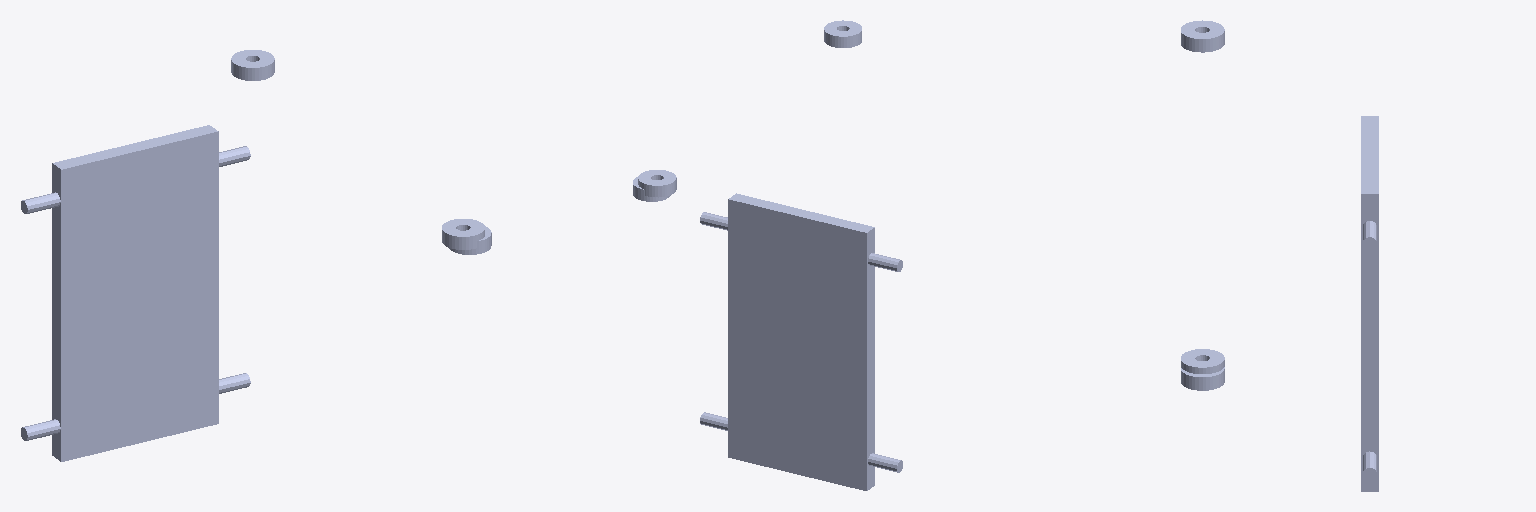
The robot description file, URDF, robot "ROS_TEST_ASSEMBLY":
<?xml version="1.0" encoding="utf-8"?>
<!-- This URDF was automatically created by SolidWorks to URDF Exporter! Originally created by [author] ([email redacted]) 
     Commit Version: 1.6.0-1-g15f4949  Build Version: 1.6.7594.29634
     For more information, please see http://wiki.ros.org/sw_urdf_exporter -->
<robot
  name="ROS_TEST_ASSEMBLY">
  <link
    name="base_link">
    <inertial>
      <origin
        xyz="-0.25 0.0249831852972346 -0.445"
        rpy="0 0 0" />
      <mass
        value="22.7777875658031" />
      <inertia
        ixx="1.53624657736055"
        ixy="5.64542627119473E-19"
        ixz="6.43745039913268E-17"
        iyy="2.04388054287898"
        iyz="7.25911804919028E-18"
        izz="0.517010899353609" />
    </inertial>
    <visual>
      <origin
        xyz="0 0 0"
        rpy="0 0 0" />
      <geometry>
        <mesh
          filename="package://ROS_TEST_ASSEMBLY/meshes/base_link.STL" />
      </geometry>
      <material
        name="">
        <color
          rgba="0.792156862745098 0.819607843137255 0.933333333333333 1" />
      </material>
    </visual>
    <collision>
      <origin
        xyz="0 0 0"
        rpy="0 0 0" />
      <geometry>
        <mesh
          filename="package://ROS_TEST_ASSEMBLY/meshes/base_link.STL" />
      </geometry>
    </collision>
  </link>
  <link
    name="FR_wheel">
    <inertial>
      <origin
        xyz="-5.55111512312578E-17 0 0"
        rpy="0 0 0" />
      <mass
        value="0.402123859659494" />
      <inertia
        ixx="0.00045574037428076"
        ixy="-7.67877008722872E-38"
        ixz="0"
        iyy="0.00045574037428076"
        iyz="-1.16563729924132E-36"
        izz="0.000804247719318988" />
    </inertial>
    <visual>
      <origin
        xyz="0 0 0"
        rpy="0 0 0" />
      <geometry>
        <mesh
          filename="package://ROS_TEST_ASSEMBLY/meshes/FR_wheel.STL" />
      </geometry>
      <material
        name="">
        <color
          rgba="0.792156862745098 0.819607843137255 0.933333333333333 1" />
      </material>
    </visual>
    <collision>
      <origin
        xyz="0 0 0"
        rpy="0 0 0" />
      <geometry>
        <mesh
          filename="package://ROS_TEST_ASSEMBLY/meshes/FR_wheel.STL" />
      </geometry>
    </collision>
  </link>
  <joint
    name="FR_wheel_contd"
    type="continuous">
    <origin
      xyz="-0.585 0.024274 -0.1"
      rpy="3.1416 -1.5708 0" />
    <parent
      link="base_link" />
    <child
      link="FR_wheel" />
    <axis
      xyz="0 0 1" />
    <limit
      upper="1000"
      effort="0"
      velocity="0" />
  </joint>
  <link
    name="FL_wheel">
    <inertial>
      <origin
        xyz="0 0 0"
        rpy="0 0 0" />
      <mass
        value="0.402123859659493" />
      <inertia
        ixx="0.000455740374280759"
        ixy="-7.67877008722871E-38"
        ixz="9.25180260739775E-37"
        iyy="0.000455740374280759"
        iyz="-1.16563729924132E-36"
        izz="0.000804247719318987" />
    </inertial>
    <visual>
      <origin
        xyz="0 0 0"
        rpy="0 0 0" />
      <geometry>
        <mesh
          filename="package://ROS_TEST_ASSEMBLY/meshes/FL_wheel.STL" />
      </geometry>
      <material
        name="">
        <color
          rgba="0.792156862745098 0.819607843137255 0.933333333333333 1" />
      </material>
    </visual>
    <collision>
      <origin
        xyz="0 0 0"
        rpy="0 0 0" />
      <geometry>
        <mesh
          filename="package://ROS_TEST_ASSEMBLY/meshes/FL_wheel.STL" />
      </geometry>
    </collision>
  </link>
  <joint
    name="FL_wheel_cont"
    type="continuous">
    <origin
      xyz="0.085 0.024274 -0.1"
      rpy="3.1416 -1.5708 0" />
    <parent
      link="base_link" />
    <child
      link="FL_wheel" />
    <axis
      xyz="0 0 1" />
    <limit
      upper="1000"
      effort="0"
      velocity="0" />
  </joint>
  <link
    name="RR_wheel">
    <inertial>
      <origin
        xyz="0 0 0"
        rpy="0 0 0" />
      <mass
        value="0.402123859659494" />
      <inertia
        ixx="0.00045574037428076"
        ixy="-7.67877008722871E-38"
        ixz="0"
        iyy="0.00045574037428076"
        iyz="-1.16563729924132E-36"
        izz="0.000804247719318988" />
    </inertial>
    <visual>
      <origin
        xyz="0 0 0"
        rpy="0 0 0" />
      <geometry>
        <mesh
          filename="package://ROS_TEST_ASSEMBLY/meshes/RR_wheel.STL" />
      </geometry>
      <material
        name="">
        <color
          rgba="0.792156862745098 0.819607843137255 0.933333333333333 1" />
      </material>
    </visual>
    <collision>
      <origin
        xyz="0 0 0"
        rpy="0 0 0" />
      <geometry>
        <mesh
          filename="package://ROS_TEST_ASSEMBLY/meshes/RR_wheel.STL" />
      </geometry>
    </collision>
  </link>
  <joint
    name="RR_wheel_contd"
    type="continuous">
    <origin
      xyz="-0.585 0.024274 -0.79"
      rpy="3.1416 -1.5708 0" />
    <parent
      link="base_link" />
    <child
      link="RR_wheel" />
    <axis
      xyz="0 0 1" />
    <limit
      upper="1000"
      effort="0"
      velocity="0" />
  </joint>
  <link
    name="RL_wheel">
    <inertial>
      <origin
        xyz="0 0 0"
        rpy="0 0 0" />
      <mass
        value="0.402123859659493" />
      <inertia
        ixx="0.000455740374280759"
        ixy="-7.67877008722871E-38"
        ixz="9.25180260739775E-37"
        iyy="0.000455740374280759"
        iyz="-1.16563729924132E-36"
        izz="0.000804247719318987" />
    </inertial>
    <visual>
      <origin
        xyz="0 0 0"
        rpy="0 0 0" />
      <geometry>
        <mesh
          filename="package://ROS_TEST_ASSEMBLY/meshes/RL_wheel.STL" />
      </geometry>
      <material
        name="">
        <color
          rgba="0.792156862745098 0.819607843137255 0.933333333333333 1" />
      </material>
    </visual>
    <collision>
      <origin
        xyz="0 0 0"
        rpy="0 0 0" />
      <geometry>
        <mesh
          filename="package://ROS_TEST_ASSEMBLY/meshes/RL_wheel.STL" />
      </geometry>
    </collision>
  </link>
  <joint
    name="RF_wheel_contd"
    type="continuous">
    <origin
      xyz="0.085 0.024274 -0.79"
      rpy="3.1416 -1.5708 0" />
    <parent
      link="base_link" />
    <child
      link="RL_wheel" />
    <axis
      xyz="0 0 1" />
    <limit
      upper="1000"
      effort="0"
      velocity="0" />
  </joint>
</robot>

--- Render facts (derived) ---
The picture shows the robot from 3 angles, left to right: view 1: azimuth 30°, elevation 25°; view 2: azimuth 150°, elevation 25°; view 3: azimuth 270°, elevation 25°; orthographic projection.
Robot: ROS_TEST_ASSEMBLY — 5 links, 4 joints (4 continuous); root link base_link; default pose: all joints at 0.
Links seen in each view (by area): view 1: base_link, FR_wheel, FL_wheel; view 2: base_link, FR_wheel, FL_wheel; view 3: base_link, FR_wheel, FL_wheel, RR_wheel.
Link boxes in pixels (box(x1,y1,x2,y2)): base_link: box(21, 125, 250, 461); FR_wheel: box(231, 50, 274, 80); FL_wheel: box(442, 219, 484, 249); base_link: box(700, 193, 902, 490); FR_wheel: box(824, 20, 861, 47); FL_wheel: box(638, 170, 676, 197); base_link: box(1361, 116, 1378, 491); FR_wheel: box(1181, 20, 1224, 52); FL_wheel: box(1181, 349, 1224, 373); RR_wheel: box(1181, 367, 1224, 390).
Bounding box of the posed robot: 1.22 × 0.5389 × 1.32 m (x, y, z).
Meshes: 5 distinct files referenced, 4 mesh visuals loaded (4 binary STL); not drawn: 1 (reference not matched to a file when rendering).